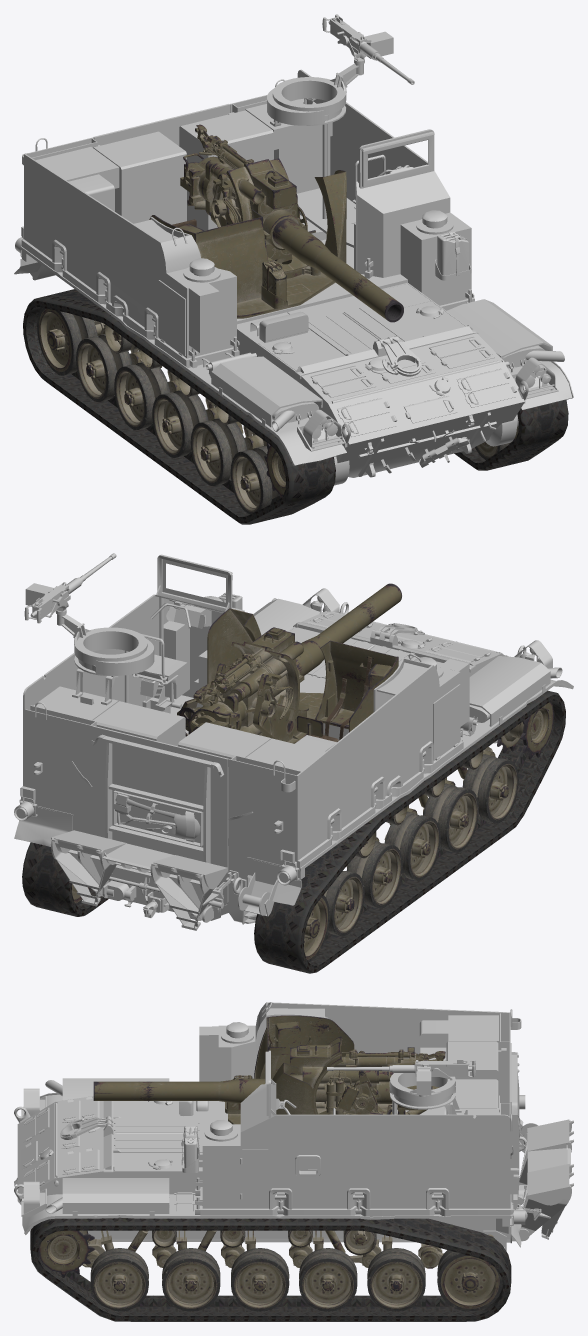
The picture shows the model from 3 angles, top to bottom: view 1: azimuth 30°, elevation 25°; view 2: azimuth 150°, elevation 25°; view 3: azimuth 270°, elevation 25°; orthographic projection. The views are drawn at different scales.
Visible parts, largest first — view 1: american\A87_M44\normal\l\Hull.pri~11~5, american\A87_M44\normal\l\Chassis.pri~11~1, american\A87_M44\normal\l\Chassis.pri~11~3, american\A87_M44\normal\l\Gun_02.pri~11~7, american\A87_M44\normal\l\Turret_01.pri~11~6, american\A87_M44\normal\l\Chassis.pri~11~4; view 2: american\A87_M44\normal\l\Hull.pri~11~5, american\A87_M44\normal\l\Chassis.pri~11~1, american\A87_M44\normal\l\Chassis.pri~11~3, american\A87_M44\normal\l\Turret_01.pri~11~6, american\A87_M44\normal\l\Gun_02.pri~11~7, american\A87_M44\normal\l\Chassis.pri~11~4; view 3: american\A87_M44\normal\l\Hull.pri~11~5, american\A87_M44\normal\l\Chassis.pri~11~2, american\A87_M44\normal\l\Chassis.pri~11~4, american\A87_M44\normal\l\Gun_02.pri~11~7, american\A87_M44\normal\l\Turret_01.pri~11~6.
Boxes of the visible parts, bbox=[...] form: american\A87_M44\normal\l\Hull.pri~11~5: bbox=[14, 14, 573, 485]; american\A87_M44\normal\l\Chassis.pri~11~1: bbox=[37, 307, 285, 514]; american\A87_M44\normal\l\Chassis.pri~11~3: bbox=[23, 289, 335, 524]; american\A87_M44\normal\l\Gun_02.pri~11~7: bbox=[180, 124, 403, 322]; american\A87_M44\normal\l\Turret_01.pri~11~6: bbox=[149, 170, 346, 318]; american\A87_M44\normal\l\Chassis.pri~11~4: bbox=[454, 400, 568, 470]; american\A87_M44\normal\l\Hull.pri~11~5: bbox=[14, 553, 573, 930]; american\A87_M44\normal\l\Chassis.pri~11~1: bbox=[303, 702, 553, 961]; american\A87_M44\normal\l\Chassis.pri~11~3: bbox=[254, 690, 565, 973]; american\A87_M44\normal\l\Turret_01.pri~11~6: bbox=[177, 608, 398, 743]; american\A87_M44\normal\l\Gun_02.pri~11~7: bbox=[188, 583, 401, 740]; american\A87_M44\normal\l\Chassis.pri~11~4: bbox=[22, 842, 108, 916]; american\A87_M44\normal\l\Hull.pri~11~5: bbox=[14, 1002, 573, 1251]; american\A87_M44\normal\l\Chassis.pri~11~2: bbox=[38, 1230, 502, 1311]; american\A87_M44\normal\l\Chassis.pri~11~4: bbox=[30, 1217, 511, 1321]; american\A87_M44\normal\l\Gun_02.pri~11~7: bbox=[93, 1036, 445, 1114]; american\A87_M44\normal\l\Turret_01.pri~11~6: bbox=[225, 1015, 392, 1124].
Size of the model in its own units: 3.7 by 3.27 by 6.22.
